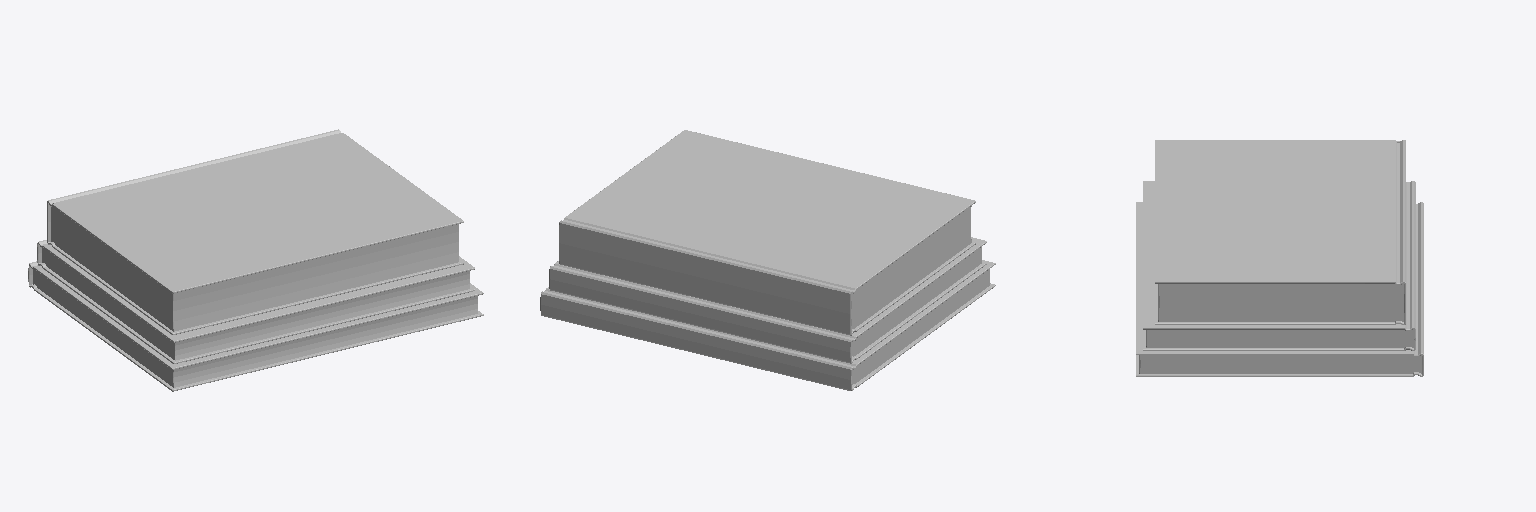
The model's file is buku.obj.
The picture shows the model from 3 angles: view 1: azimuth 30°, elevation 25°; view 2: azimuth 150°, elevation 25°; view 3: azimuth 270°, elevation 25°; orthographic projection.
Parts seen in each view (by area): view 1: Cover_book-02, Cover_book-03, Cover_book-01; view 2: Cover_book-02, Cover_book-01, Cover_book-03; view 3: Cover_book-02, Cover_book-03, Cover_book-01.
Part boxes in pixels (x1,y1,x2,y2): Cover_book-02: (47,129,463,334); Cover_book-03: (37,240,474,363); Cover_book-01: (28,261,483,391); Cover_book-02: (559,130,975,335); Cover_book-01: (540,260,995,390); Cover_book-03: (549,237,986,363); Cover_book-02: (1155,140,1405,324); Cover_book-03: (1143,181,1415,350); Cover_book-01: (1136,202,1423,376).
Bounding box in the file's own units: 0.2395 × 0.0668 × 0.1923.